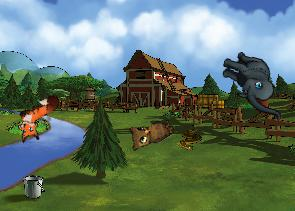elephant: (212, 48, 294, 120)
fox: (8, 92, 70, 146)
owl: (122, 107, 176, 155)
